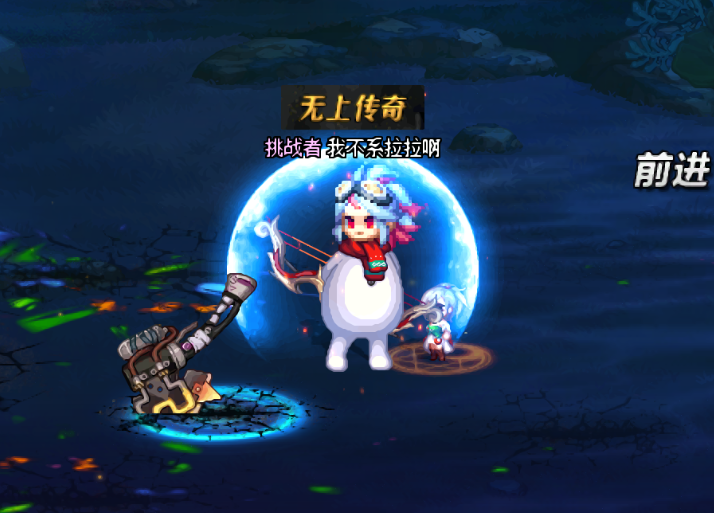role: (279, 87, 424, 131)
